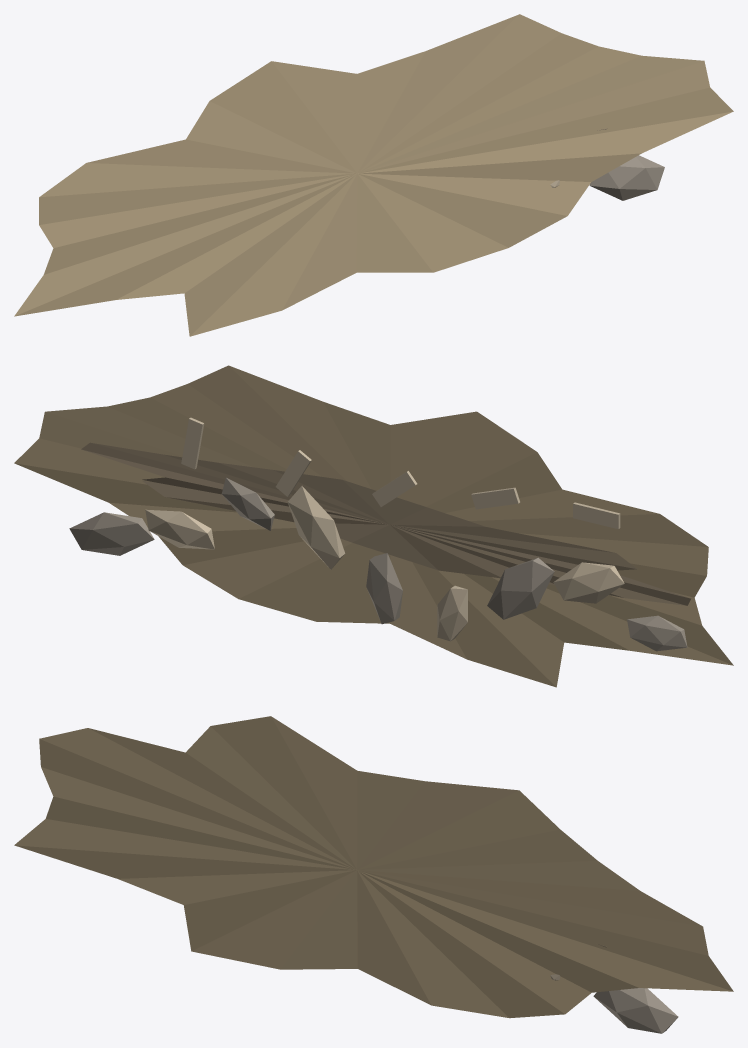
Rendered from packed-road-edge.glb.
3 views of the same model, one above another, from view 1: azimuth 30°, elevation 25°; view 2: azimuth 150°, elevation 25°; view 3: azimuth 330°, elevation 25° (orthographic).
Visible parts, largest first — view 1: road_edge_dust, road_embedded_stone_08; view 2: road_edge_dust, road_edge_rut_shadow, road_embedded_stone_08, road_embedded_stone_02, road_embedded_stone_05, road_embedded_stone_01, road_embedded_stone_07, road_embedded_stone_04, road_embedded_stone_00, road_embedded_stone_06, road_embedded_stone_03, road_flat_chip_00 (+4 smaller); view 3: road_edge_dust, road_embedded_stone_08.
Part boxes in pixels (x1,y1,x2,y2): road_edge_dust: (14, 14, 733, 336); road_embedded_stone_08: (589, 155, 664, 200); road_edge_dust: (14, 365, 733, 687); road_edge_rut_shadow: (81, 442, 690, 605); road_embedded_stone_08: (69, 512, 154, 555); road_embedded_stone_02: (487, 557, 554, 619); road_embedded_stone_05: (287, 486, 345, 569); road_embedded_stone_01: (553, 562, 624, 603); road_embedded_stone_07: (145, 509, 214, 549); road_embedded_stone_04: (366, 553, 402, 624); road_embedded_stone_00: (627, 615, 687, 651); road_embedded_stone_06: (221, 477, 274, 530); road_embedded_stone_03: (437, 585, 467, 641); road_flat_chip_00: (573, 502, 620, 529); road_edge_dust: (14, 716, 733, 1018); road_embedded_stone_08: (593, 988, 678, 1033).
Bounding box in the file's own units: 5.69 × 1.94 × 0.1576.
